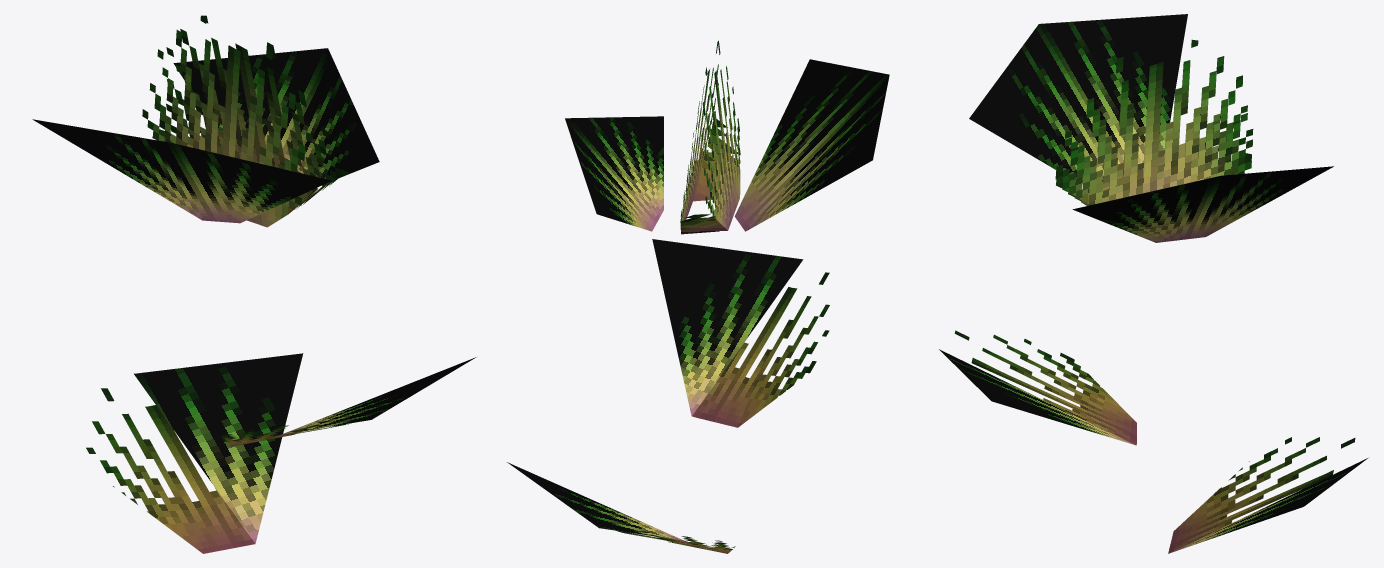
File: secondary_013.glb
The picture shows the model from 3 angles, left to right: view 1: azimuth 30°, elevation 25°; view 2: azimuth 150°, elevation 25°; view 3: azimuth 270°, elevation 25°; orthographic projection. The views are drawn at different scales.
Parts seen in each view (by area): view 1: Object; view 2: Object; view 3: Object.
Boxes of the visible parts, bbox=[...] form: Object: bbox=[32, 15, 476, 553]; Object: bbox=[507, 40, 889, 553]; Object: bbox=[939, 14, 1367, 553].
Size of the model in its own units: 2.46 by 3.69 by 2.86.
5 materials, 5 textured.
